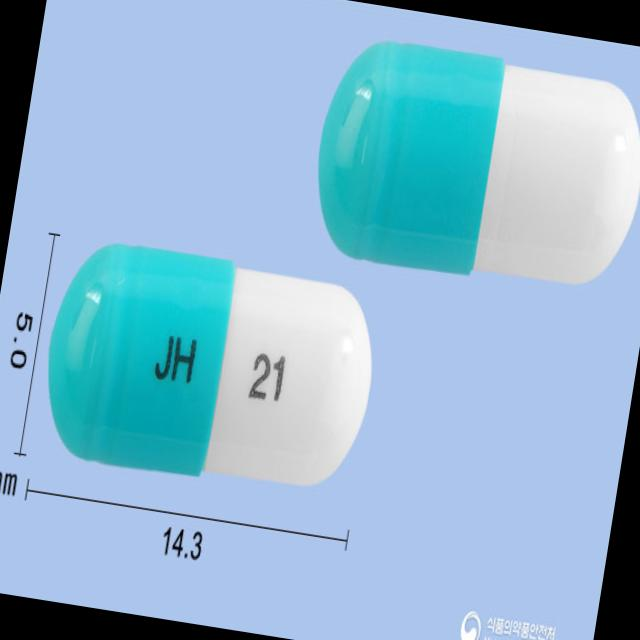Flunazole Cap: (32, 233, 389, 502)
